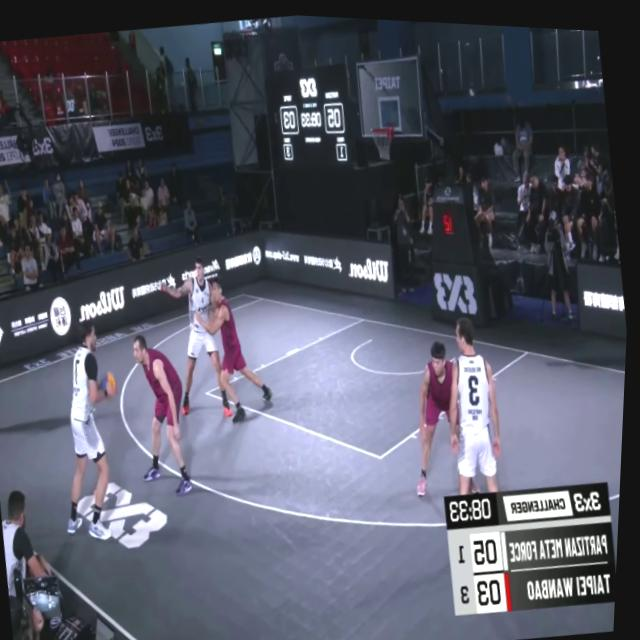ball: (101, 366, 125, 401)
hoop: (370, 119, 400, 163)
player: (44, 315, 142, 539), (433, 306, 522, 528), (155, 255, 241, 424), (127, 328, 206, 502), (195, 269, 281, 426), (404, 331, 484, 494)
